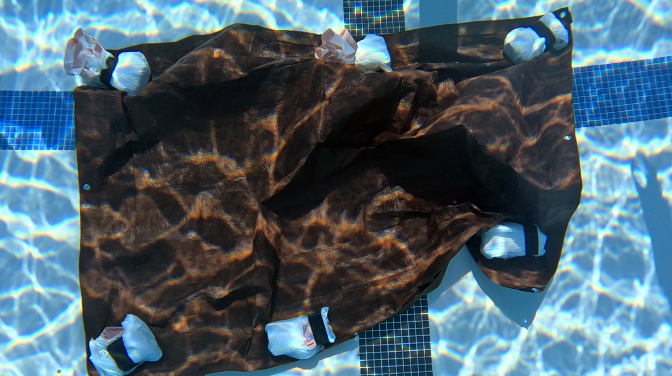sandbag: (62, 6, 580, 373)
